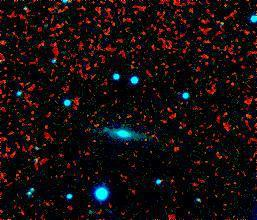star: (89, 113, 119, 143)
